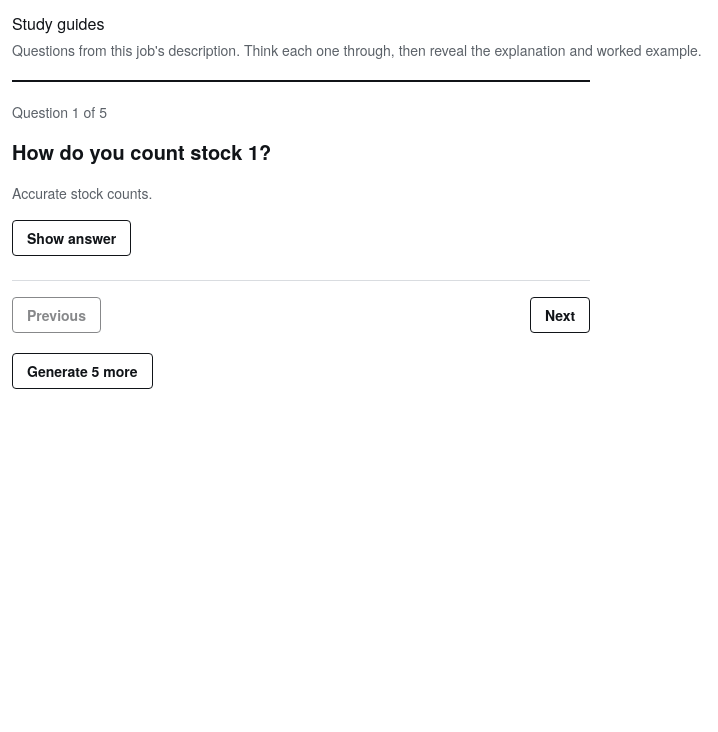
renders long diagram labels as escaped text in both theme contexts
Check: the heading "How do you count stock 1?" is shown, box [12, 137, 271, 166]
Click the button "Show answer" at (72, 238), box [12, 220, 131, 256]
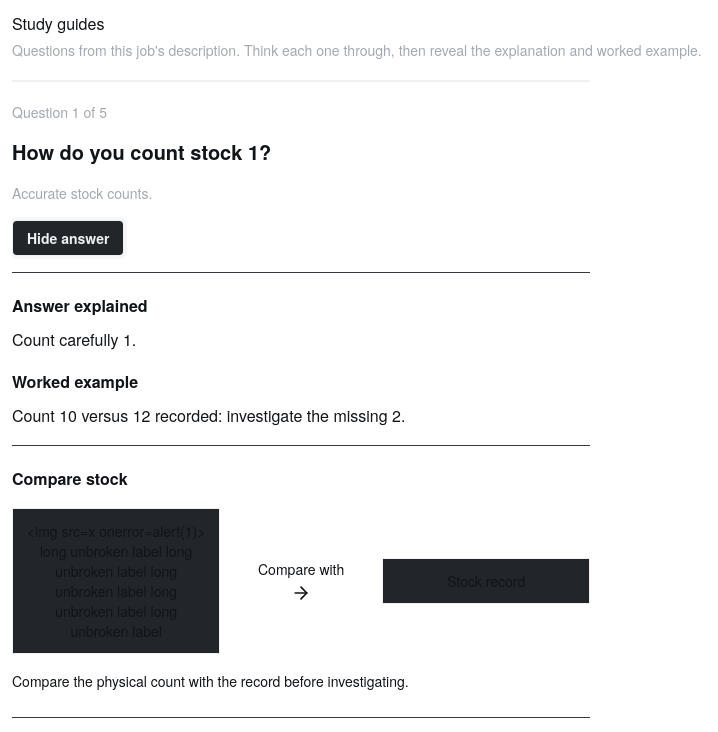
Check: the element "Compare stock" is shown, box [12, 445, 590, 693]
